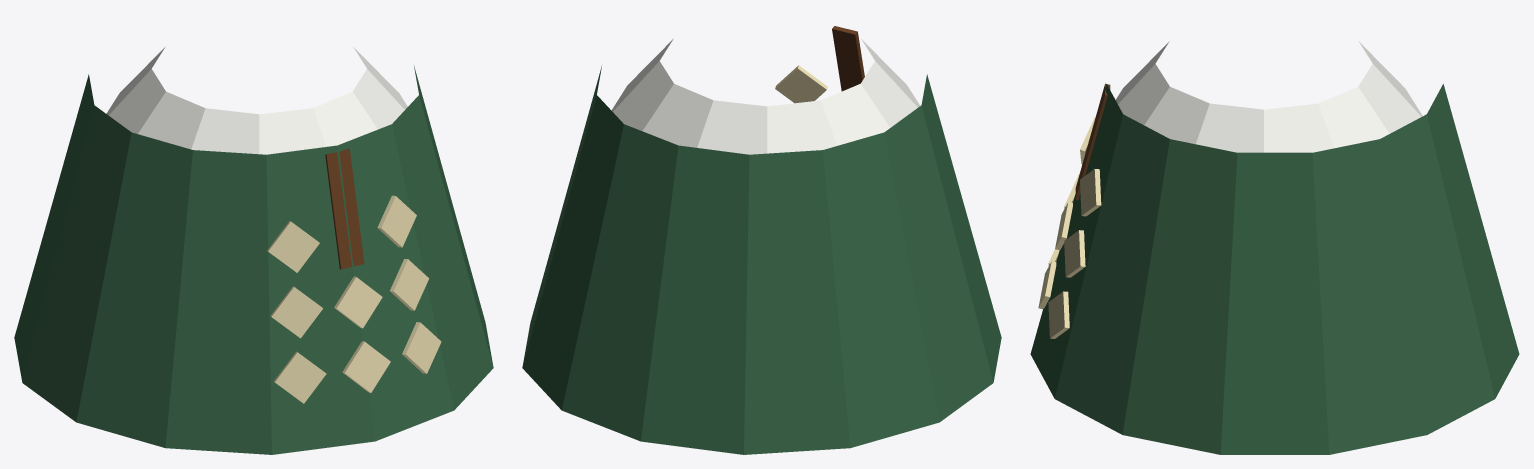
File: disguise_chess_vest.glb
The picture shows the model from 3 angles, left to right: view 1: azimuth 30°, elevation 25°; view 2: azimuth 150°, elevation 25°; view 3: azimuth 270°, elevation 25°; orthographic projection.
Parts seen in each view (by area): view 1: vest_chess_green, shirt_chess_shirt, argyle_chess_cream, tie_chess_tie; view 2: vest_chess_green, shirt_chess_shirt, tie_chess_tie, argyle_chess_cream; view 3: vest_chess_green, shirt_chess_shirt, argyle_chess_cream, tie_chess_tie.
Boxes of the visible parts, x1=… form: vest_chess_green: x1=14, y1=66, x2=493, y2=454; shirt_chess_shirt: x1=106, y1=47, x2=407, y2=154; argyle_chess_cream: x1=267, y1=195, x2=441, y2=403; tie_chess_tie: x1=325, y1=148, x2=364, y2=269; vest_chess_green: x1=522, y1=66, x2=1001, y2=454; shirt_chess_shirt: x1=611, y1=38, x2=919, y2=154; tie_chess_tie: x1=832, y1=26, x2=864, y2=91; argyle_chess_cream: x1=775, y1=65, x2=827, y2=103; vest_chess_green: x1=1030, y1=84, x2=1519, y2=454; shirt_chess_shirt: x1=1115, y1=41, x2=1422, y2=152; argyle_chess_cream: x1=1038, y1=117, x2=1101, y2=338; tie_chess_tie: x1=1075, y1=83, x2=1110, y2=200.
Bounding box in the file's own units: 0.8774 × 0.59 × 0.9.
